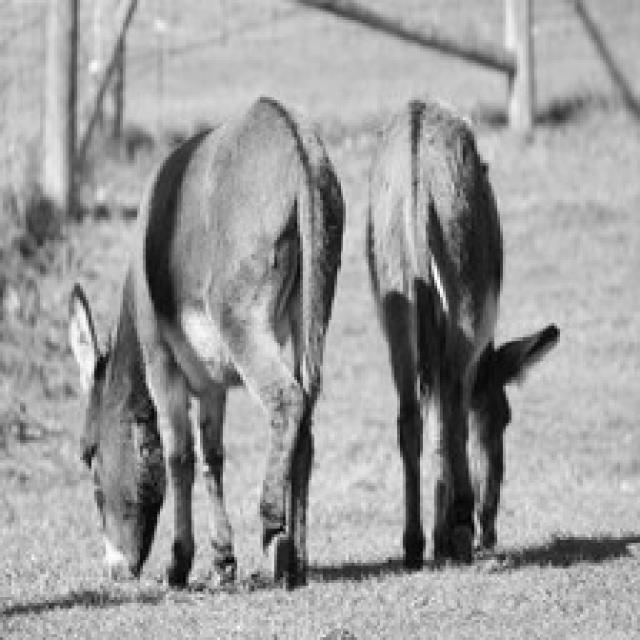Donkey: (66, 91, 346, 588), (363, 94, 560, 569)
